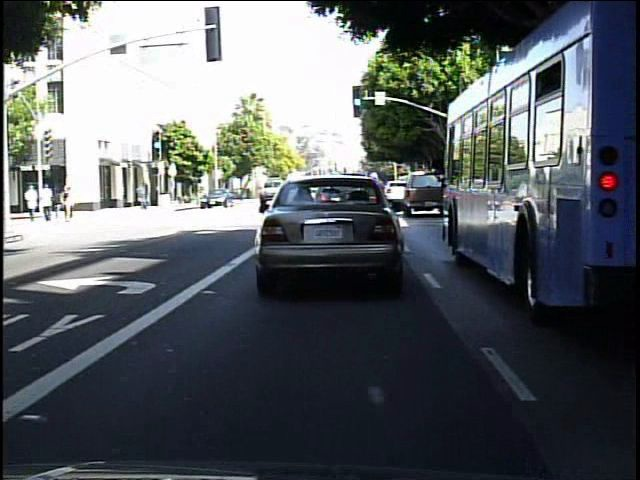person: (22, 180, 38, 223), (39, 182, 54, 223), (134, 179, 151, 214), (57, 183, 72, 222), (53, 188, 63, 221), (65, 182, 66, 221)
